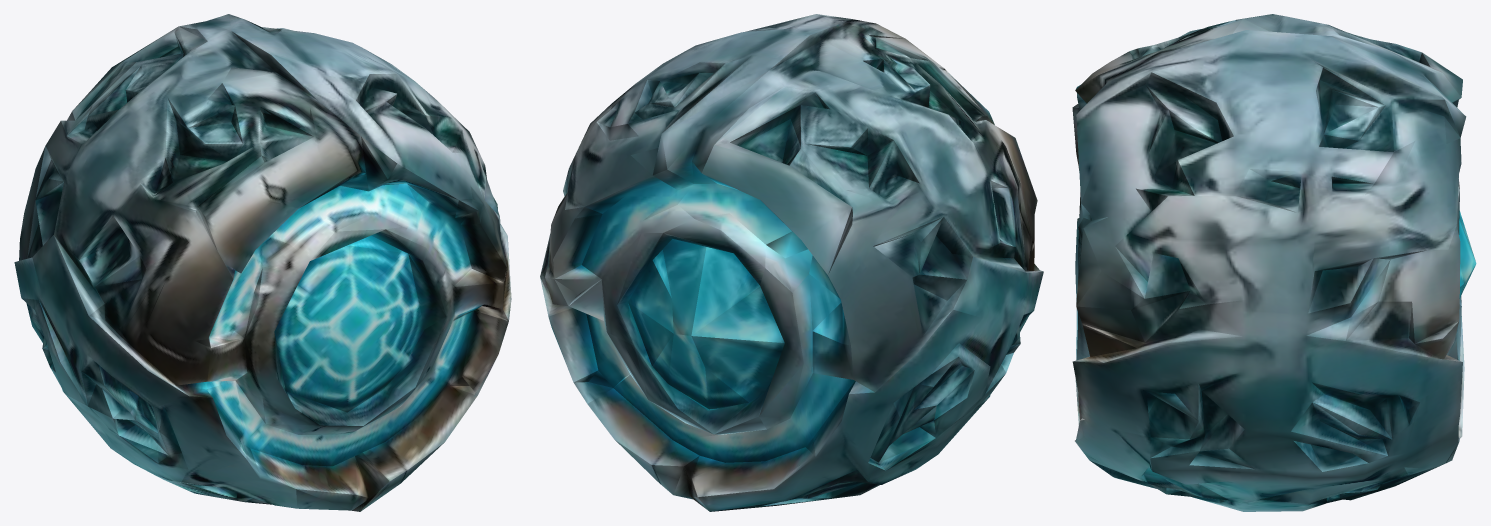
File: m2EnergyOrbBlue.glb
3 views of the same model, side by side, from view 1: azimuth 30°, elevation 25°; view 2: azimuth 150°, elevation 25°; view 3: azimuth 270°, elevation 25° (orthographic). The views are drawn at different scales.
Visible parts, largest first — view 1: model; view 2: model; view 3: model.
Part boxes in pixels (x1=…): model: x1=14, y1=14, x2=511, y2=511; model: x1=540, y1=14, x2=1043, y2=511; model: x1=1072, y1=14, x2=1476, y2=511.
Bounding box in the file's own units: 1.86 × 1.9 × 1.51.
1 material, 1 textured.
